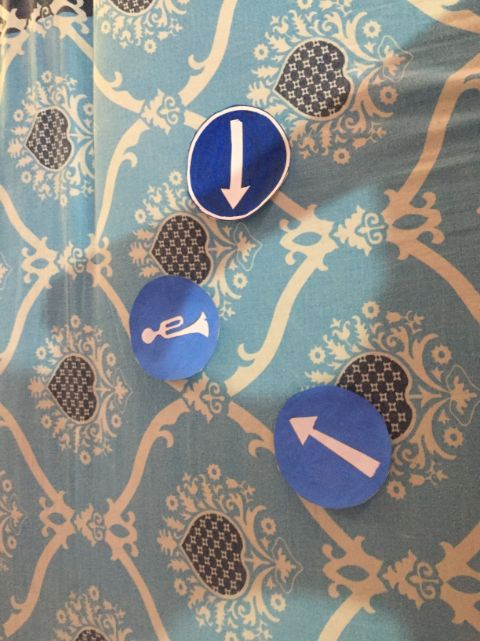blow-horn: (130, 280, 221, 371)
go-stright: (186, 106, 290, 210)
keep-left: (275, 388, 390, 503)
